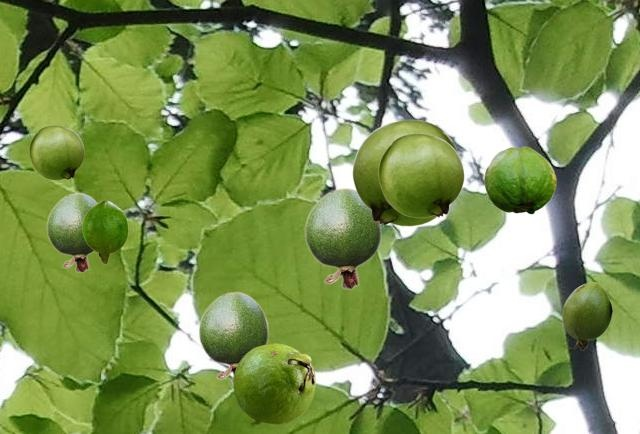guava: (352, 119, 457, 225), (304, 187, 381, 289), (378, 133, 463, 217), (198, 291, 268, 384), (233, 343, 314, 423), (484, 146, 555, 213), (46, 192, 97, 272), (562, 282, 611, 349), (29, 125, 83, 179), (82, 200, 127, 263)
